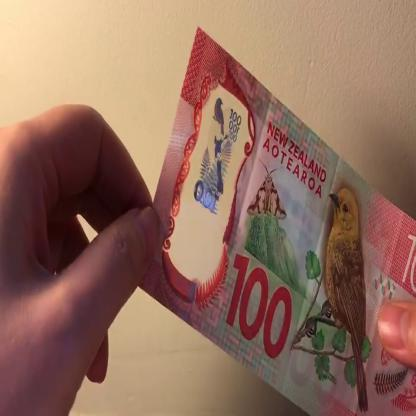100B: (187, 94, 243, 225)
